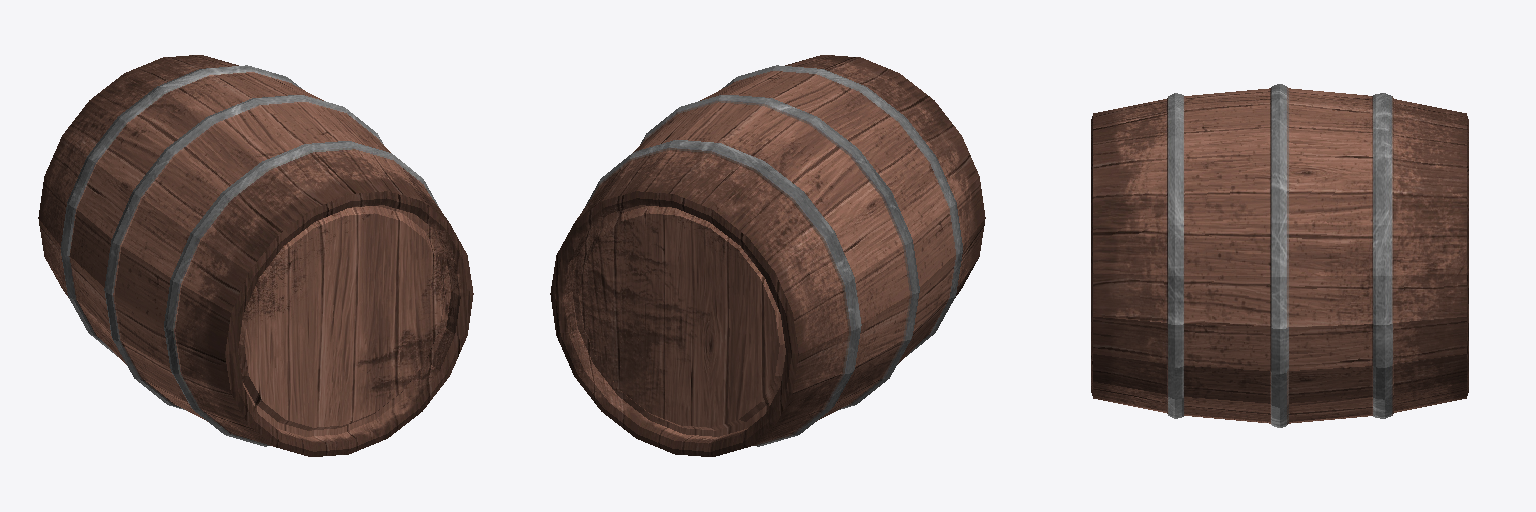
3 renders of one model, left to right at view 1: azimuth 30°, elevation 25°; view 2: azimuth 150°, elevation 25°; view 3: azimuth 270°, elevation 25°, orthographic.
Visible parts, largest first — view 1: CHESTSandTRUNKS; view 2: CHESTSandTRUNKS; view 3: CHESTSandTRUNKS.
Part boxes in pixels (x1,y1,x2,y2): CHESTSandTRUNKS: (38, 55, 473, 456); CHESTSandTRUNKS: (550, 55, 985, 456); CHESTSandTRUNKS: (1091, 84, 1468, 427).
Size of the model in its own units: 2.86 by 2.86 by 3.11.
1 materials, 1 textured.